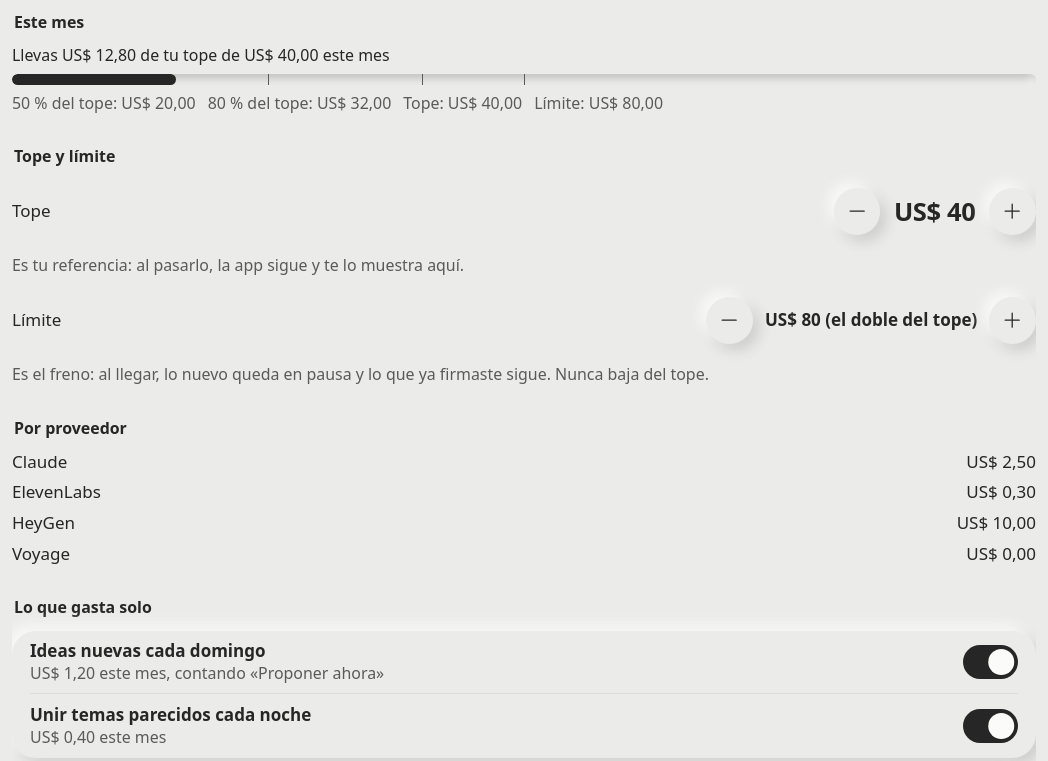
Test: PantallaDePresupuesto › undoes only the cap when its save fails, keeping a switch she changed meanwhile
Click the button named "Subir el tope" at (1013, 212), box [989,188,1036,235]
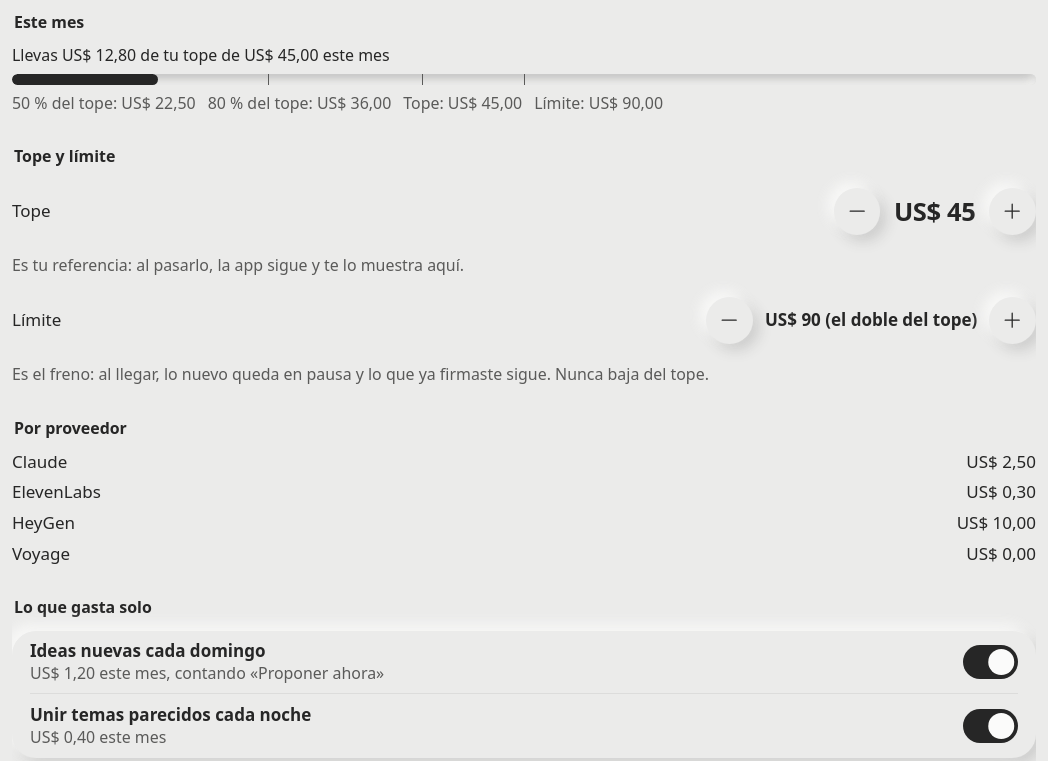
Click the switch named "Ideas nuevas cada domingo" in the row of "Ideas nuevas cada domingo" at (990, 662), box [963,645,1018,679]
Wait 800 ms
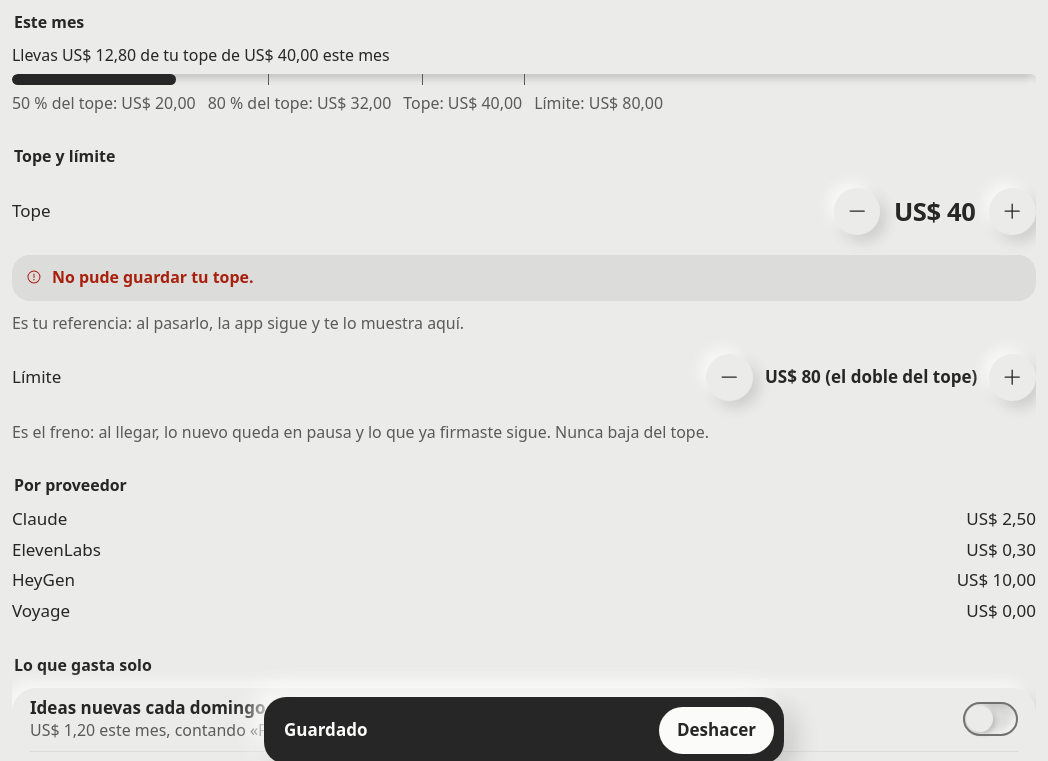
Check: the text "No pude guardar tu tope." is shown, box [52,266,253,288]
Check: the text "US$ 40" is shown, box [892,197,977,226]
